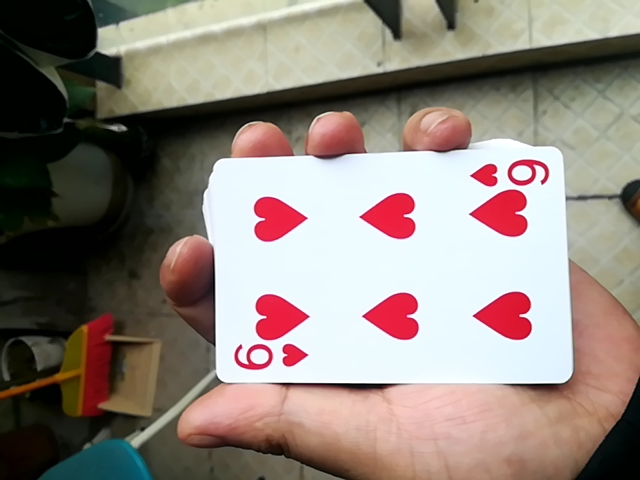hx 6: (188, 137, 566, 392)
